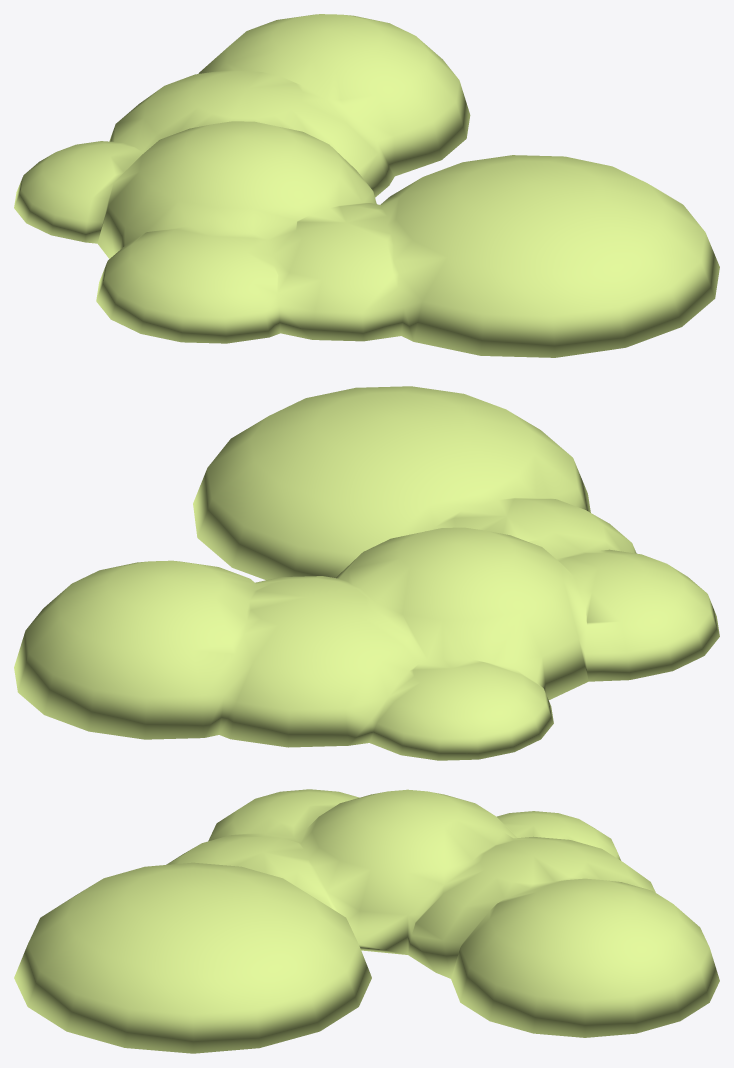
File: wosk01.FBX
The picture shows the model from 3 angles, top to bottom: view 1: azimuth 30°, elevation 25°; view 2: azimuth 150°, elevation 25°; view 3: azimuth 270°, elevation 25°; orthographic projection. The views are drawn at different scales.
Visible parts, largest first — view 1: Sphere001; view 2: Sphere001; view 3: Sphere001.
Part boxes in pixels (bbox=[...]): Sphere001: bbox=[14, 14, 719, 357]; Sphere001: bbox=[14, 386, 719, 760]; Sphere001: bbox=[14, 789, 719, 1053].
Size of the model in its own units: 5.82 by 1.06 by 7.26.
